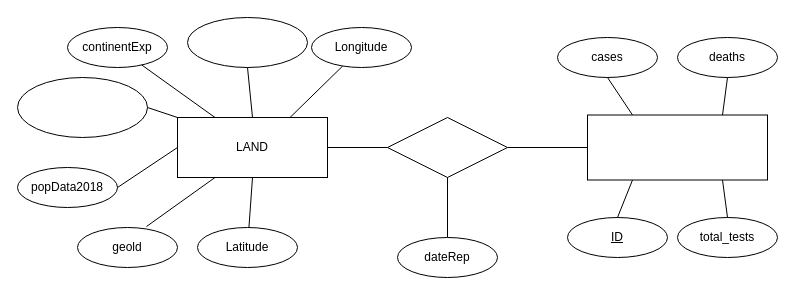
Some shapes in this 795 by 295 pixel diagram are drawn without their labels. Here are the shapes that lost their labels. From the top down, the box of each, then its label:
(186, 16, 308, 68): countryterritoryCode
(16, 76, 148, 138): countriesandTerritories
(386, 116, 508, 178): hat
(586, 114, 768, 180): COVID-STATISTIK
